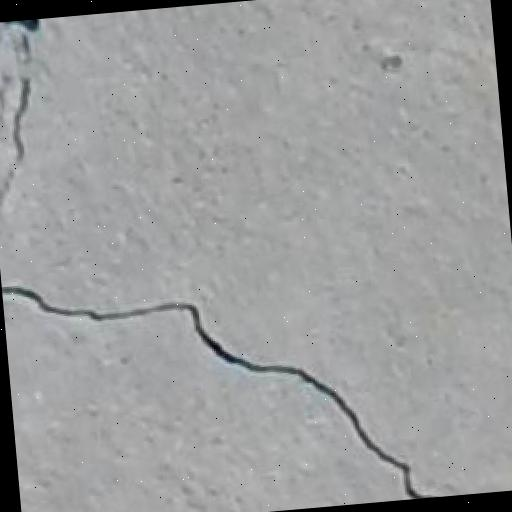spalling: (9, 273, 417, 497)
